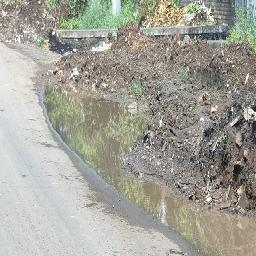water accumulation: (41, 77, 256, 256)
